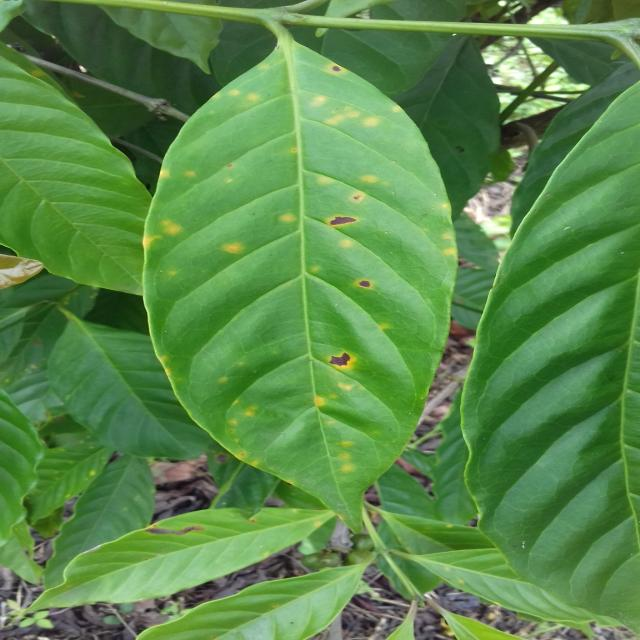Enfermedad-Roya: (141, 41, 452, 536)
